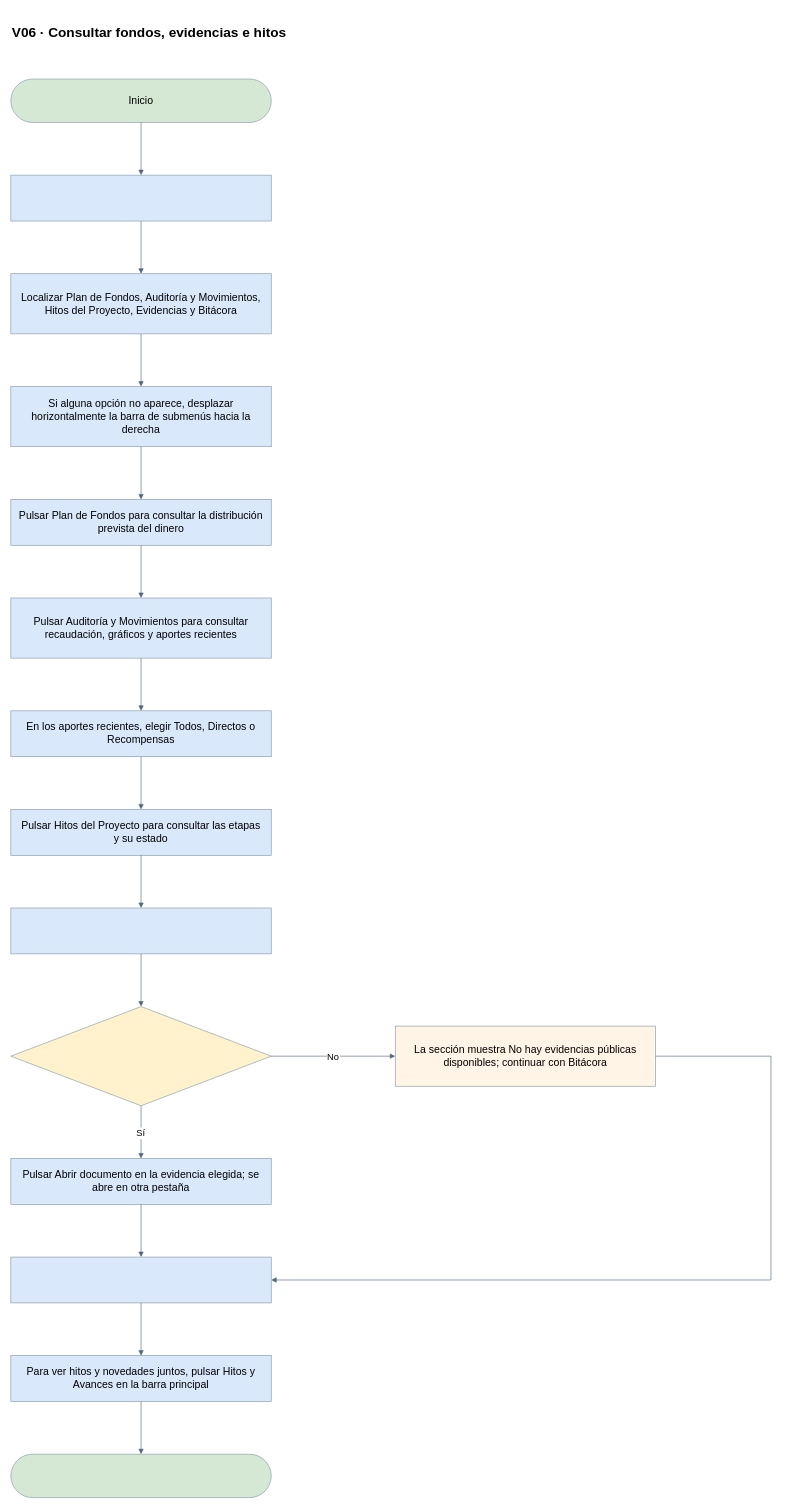
The diagram is 787 pixels wide and 1508 high, and some of its shapes have lost their labels. The box of each missing label's shape, as (x1, y1, x2, y2) in pixels:
En la barra principal de la campaña, pulsar Transparencia y Fondos: (10, 175, 271, 221)
Fin: (10, 1454, 271, 1498)
Pulsar Evidencias; el número junto al nombre indica cuántos documentos hay: (10, 907, 271, 954)
Volver a la campaña y pulsar Bitácora para consultar las novedades publicadas: (10, 1256, 271, 1303)
¿Hay evidencias públicas?: (10, 1006, 271, 1106)
